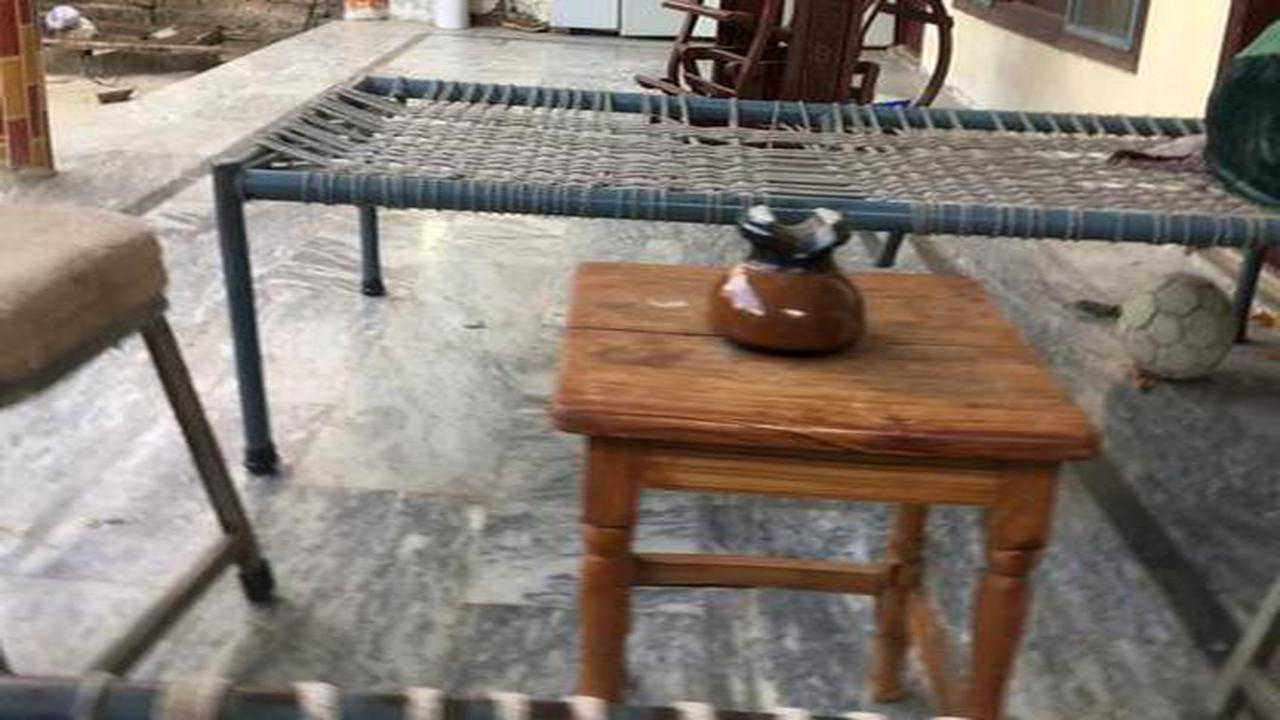insulator_pin: (693, 184, 890, 364)
